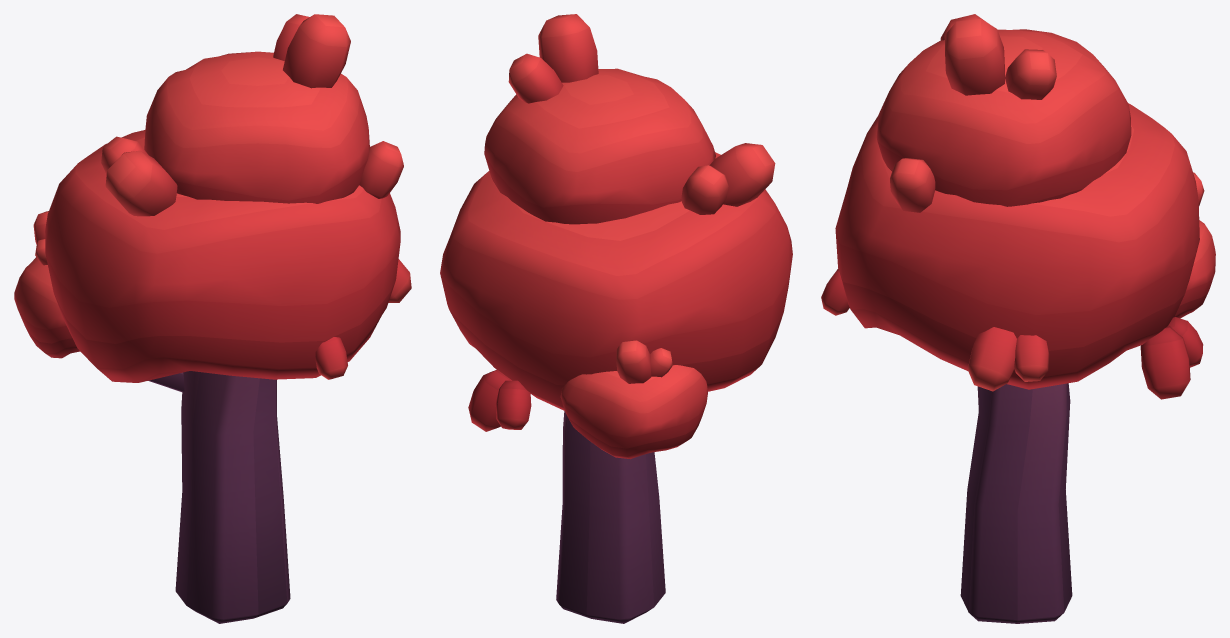
Rendered from grassland_tree_col3_3.fbx.
3 views of the same model, side by side, from view 1: azimuth 30°, elevation 25°; view 2: azimuth 150°, elevation 25°; view 3: azimuth 270°, elevation 25° (orthographic). The views are drawn at different scales.
Parts seen in each view (by area): view 1: grassland_tree_col3_3; view 2: grassland_tree_col3_3; view 3: grassland_tree_col3_3.
Part boxes in pixels (box(x1,y1,x2,y2)): grassland_tree_col3_3: box(14, 14, 411, 623); grassland_tree_col3_3: box(440, 14, 792, 623); grassland_tree_col3_3: box(821, 14, 1215, 623).
Bounding box in the file's own units: 460 × 793 × 458.
1 material, 1 textured.
